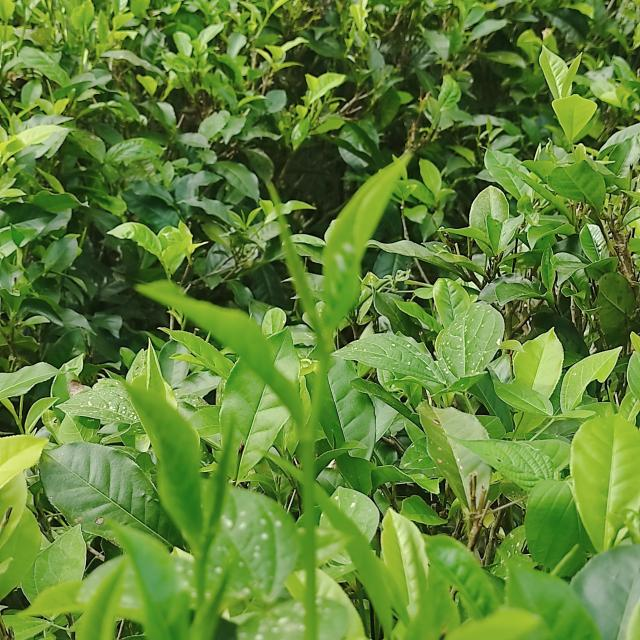unopened_leaf: (257, 178, 335, 359), (186, 553, 246, 640)
